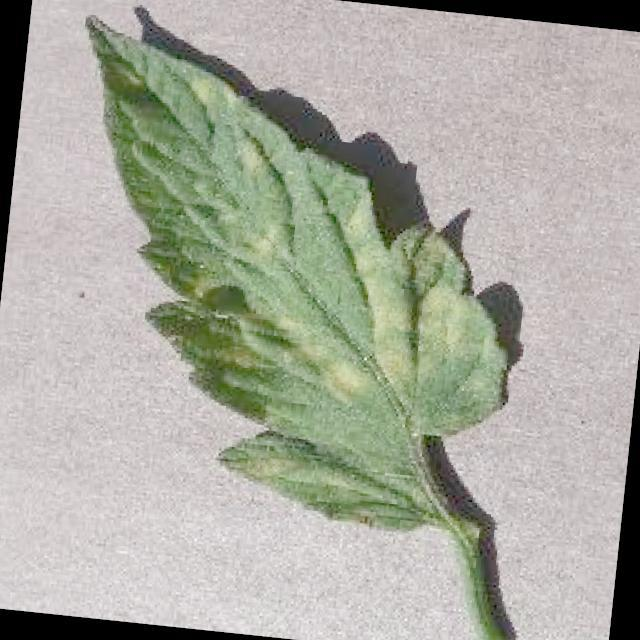Tomato mold leaf: (38, 11, 541, 546)
